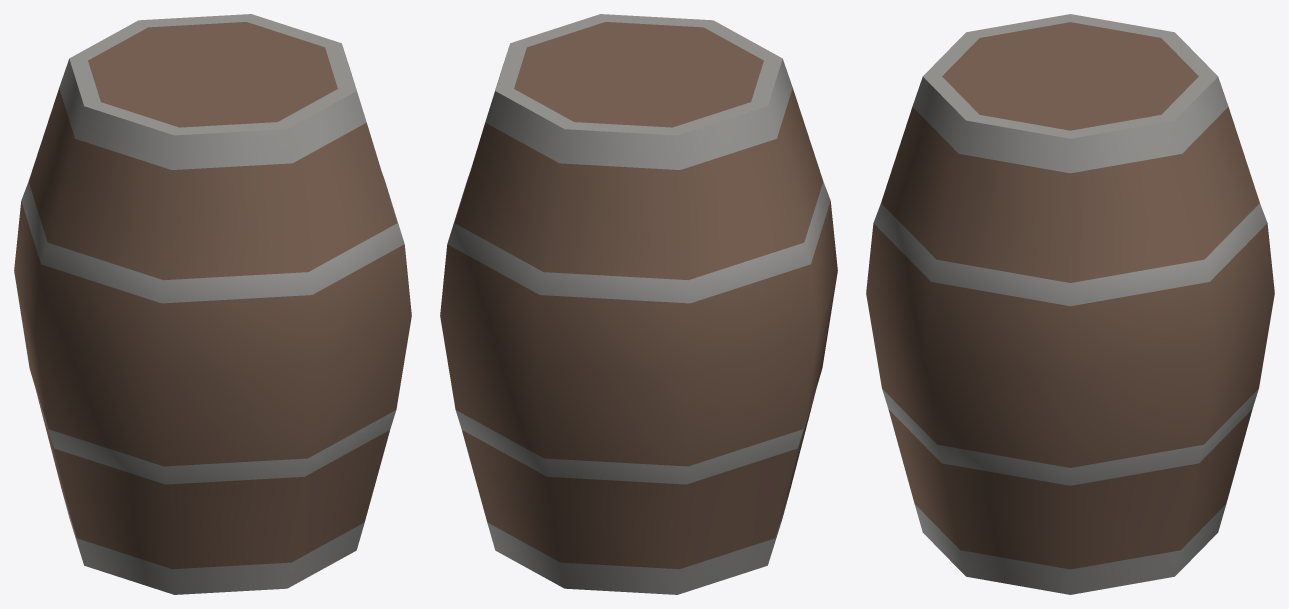
File: mdl_barrel01.fbx
3 views of the same model, side by side, from view 1: azimuth 30°, elevation 25°; view 2: azimuth 150°, elevation 25°; view 3: azimuth 270°, elevation 25° (orthographic).
Visible parts, largest first — view 1: mdl_barrel02; view 2: mdl_barrel02; view 3: mdl_barrel02.
Part boxes in pixels (<box>): mdl_barrel02: <box>14,14,411,594</box>; mdl_barrel02: <box>440,14,837,594</box>; mdl_barrel02: <box>866,14,1274,594</box>.
Bounding box in the file's own units: 23.03 × 28.35 × 23.03.
Materials: 1 (1 with a texture image).
